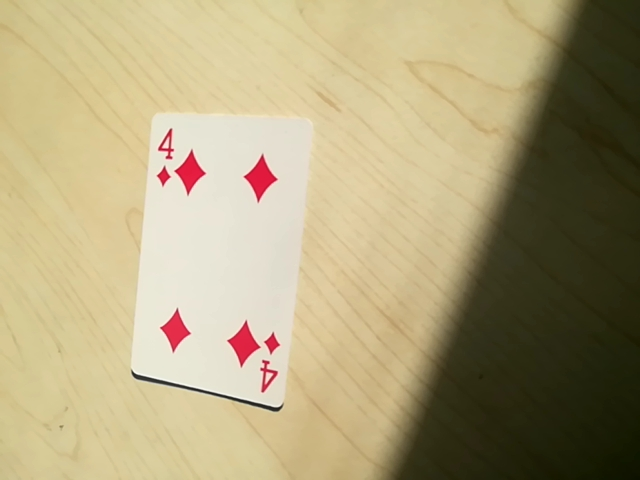fk 4: (152, 123, 189, 194), (248, 329, 284, 401)
